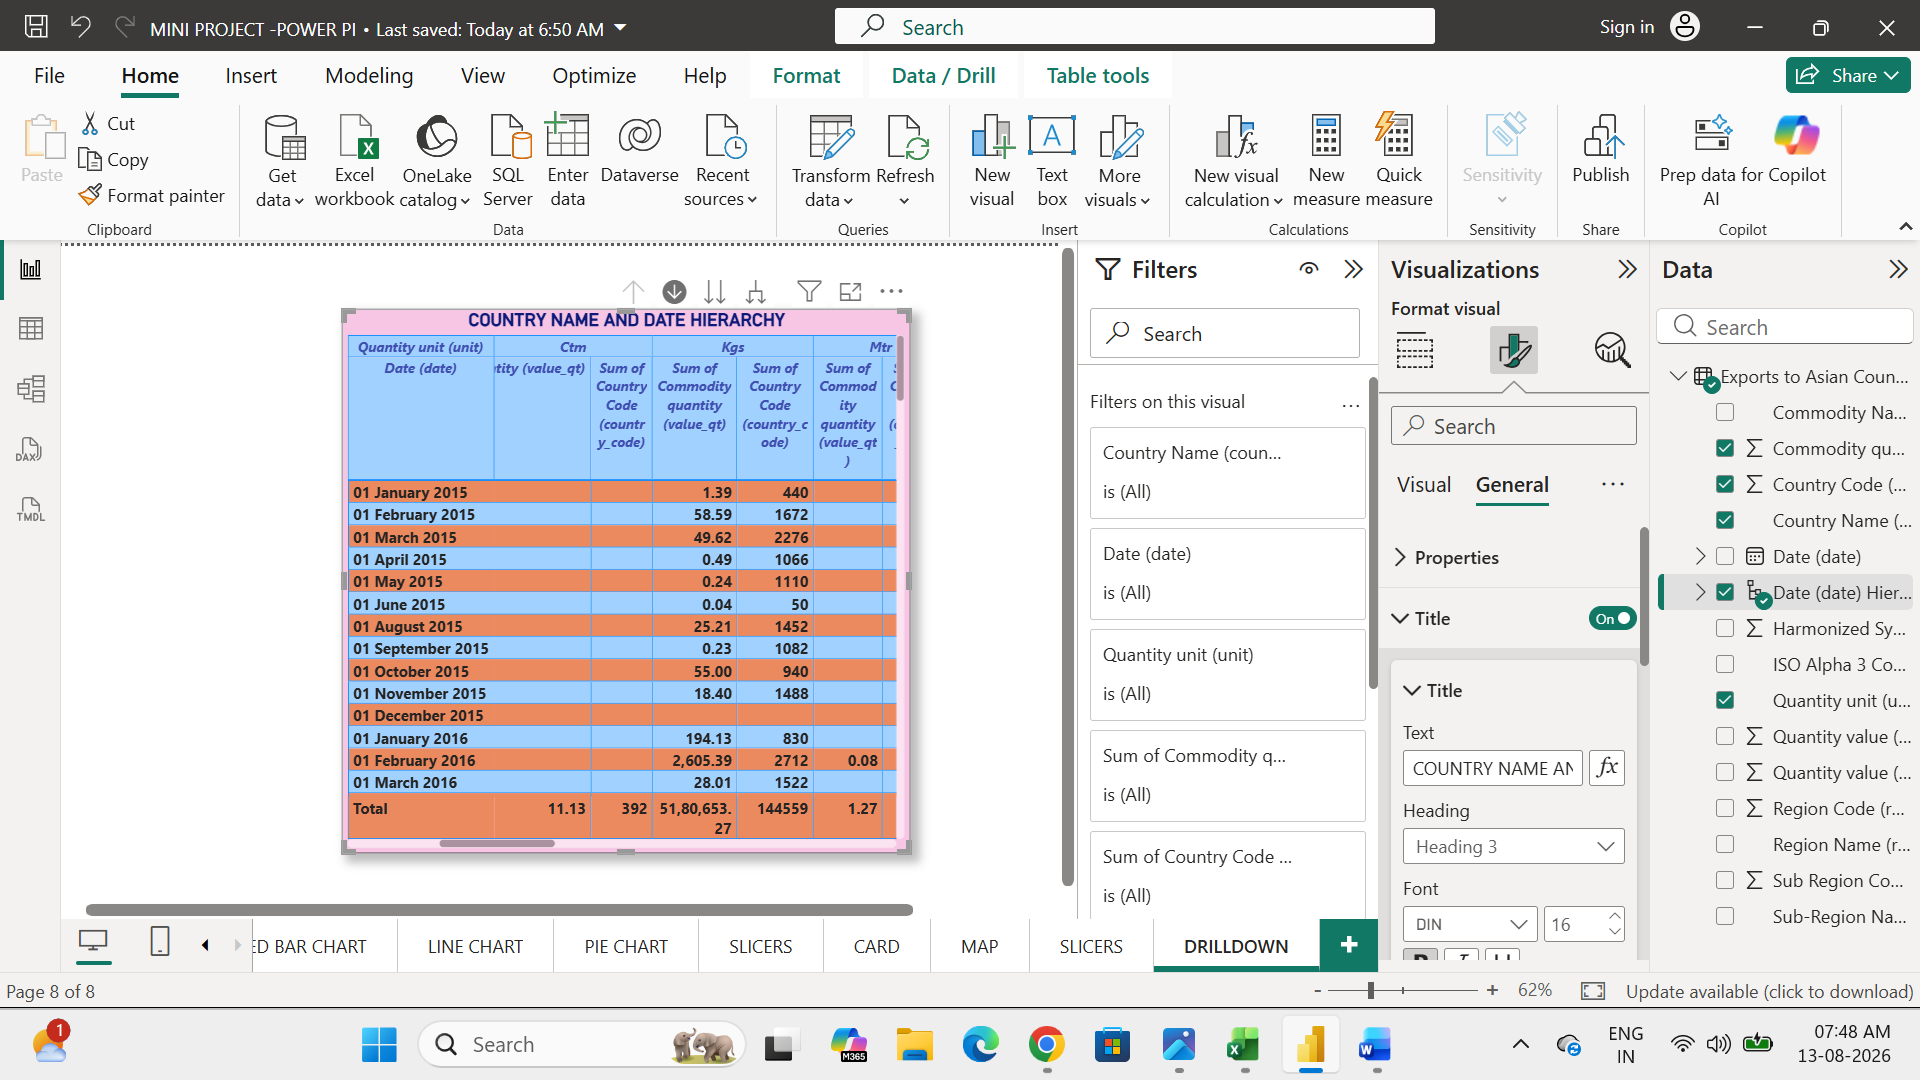

This screenshot's page, from the dashboard's own definition file:
{"tool":"powerbi","page":{"name":"DRILLDOWN","canvas":[1280,720],"ordinal":7},"visuals":[{"type":"pivotTable","title":"COUNTRY NAME AND DATE HIERARCHY","fields":{"Rows":["Exports to Asian Countries_Samp.Date (date) Hierarchy.Date (date)","Exports to Asian Countries_Samp.Country Name (country_name)"],"Columns":["Exports to Asian Countries_Samp.Quantity unit (unit)"],"Values":["Sum(Exports to Asian Countries_Samp.Commodity quantity (value_qt))","Sum(Exports to Asian Countries_Samp.Country Code (country_code))"]},"box":[319.4,67.7,611.3,585.5],"z":0}]}

Visuals, with their boxes on the page's 1280x720 design canvas (x1, y1, x2, y2). These are canvas units, not pixel positions in the 1920x1080 screenshot, which may show the page scaled, cropped or inside an application window:
"COUNTRY NAME AND DATE HIERARCHY" pivotTable: 319:68:931:653
